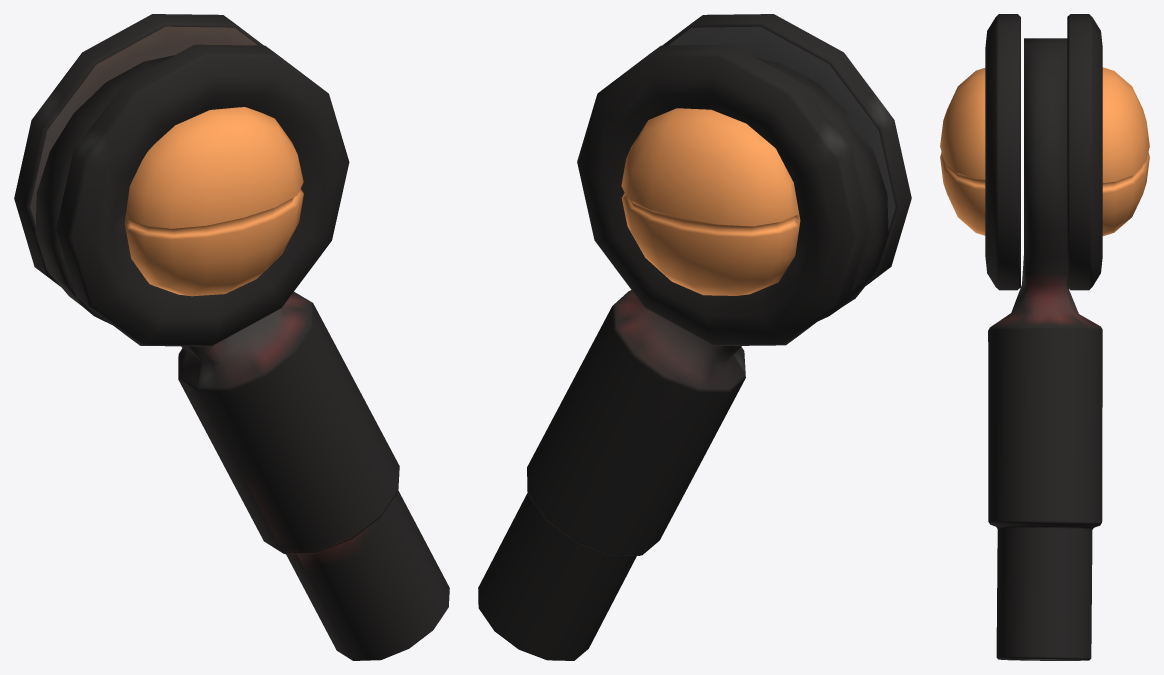
The model's file is arm_up_left.obj.
The picture shows the model from 3 angles, left to right: view 1: azimuth 30°, elevation 25°; view 2: azimuth 150°, elevation 25°; view 3: azimuth 270°, elevation 25°; orthographic projection. The views are drawn at different scales.
Parts seen in each view (by area): view 1: arm_up_left arm_up_left, arm_up_left shoulder_plate_front_left, arm_up_left pivot shoulder_screw_1_left, shoulder_plate_back_left arm_up_left; view 2: arm_up_left arm_up_left, shoulder_plate_back_left arm_up_left, arm_up_left shoulder_screw_2_left pivot, arm_up_left shoulder_plate_front_left; view 3: arm_up_left arm_up_left, shoulder_plate_back_left arm_up_left, arm_up_left shoulder_plate_front_left, arm_up_left shoulder_screw_2_left pivot, arm_up_left pivot shoulder_screw_1_left.
Boxes of the visible parts, x1=… form: arm_up_left arm_up_left: x1=35, y1=55, x2=449, y2=660; arm_up_left shoulder_plate_front_left: x1=56, y1=44, x2=349, y2=346; arm_up_left pivot shoulder_screw_1_left: x1=124, y1=107, x2=303, y2=296; shoulder_plate_back_left arm_up_left: x1=14, y1=14, x2=263, y2=287; arm_up_left arm_up_left: x1=478, y1=58, x2=888, y2=660; shoulder_plate_back_left arm_up_left: x1=577, y1=44, x2=869, y2=346; arm_up_left shoulder_screw_2_left pivot: x1=621, y1=108, x2=800, y2=295; arm_up_left shoulder_plate_front_left: x1=662, y1=14, x2=911, y2=285; arm_up_left arm_up_left: x1=988, y1=38, x2=1102, y2=660; shoulder_plate_back_left arm_up_left: x1=1067, y1=14, x2=1102, y2=290; arm_up_left shoulder_plate_front_left: x1=985, y1=14, x2=1020, y2=290; arm_up_left shoulder_screw_2_left pivot: x1=1102, y1=67, x2=1149, y2=236; arm_up_left pivot shoulder_screw_1_left: x1=940, y1=68, x2=985, y2=235.
Size of the model in its own units: 0.1862 by 0.2946 by 0.099.
1 material, 1 textured.
